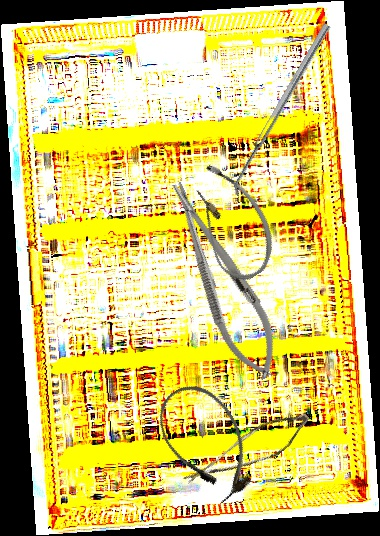Cannula: (146, 372, 268, 512), (170, 154, 290, 290)
Micro Scissor: (182, 392, 315, 512)
Needle Holder: (154, 172, 292, 388)
Spatula Surgical: (227, 23, 338, 198)
